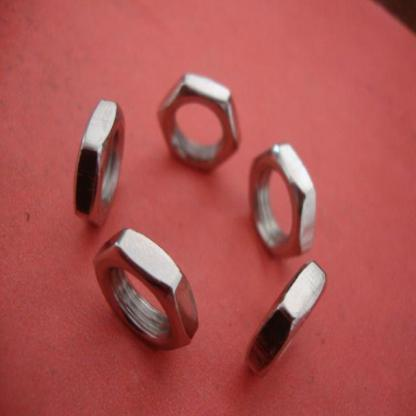FOD: (89, 228, 203, 350), (242, 249, 328, 382), (246, 139, 319, 261), (153, 77, 241, 175), (71, 98, 127, 237)
